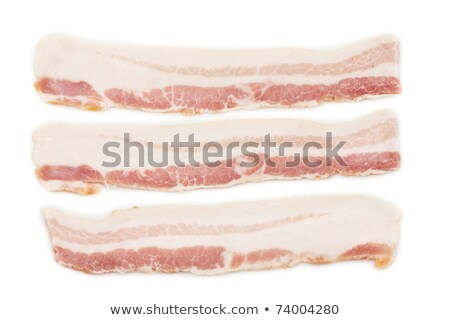bacon: (38, 21, 399, 106), (32, 198, 409, 272), (24, 115, 413, 186)
